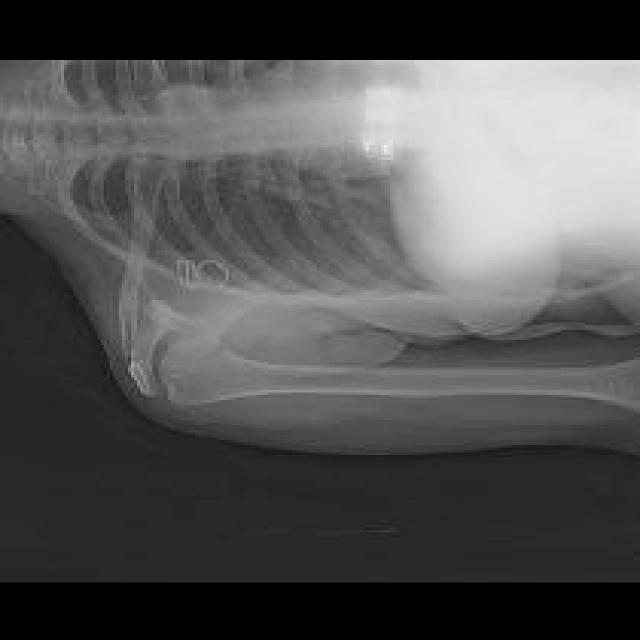normal: (157, 342, 640, 410)
